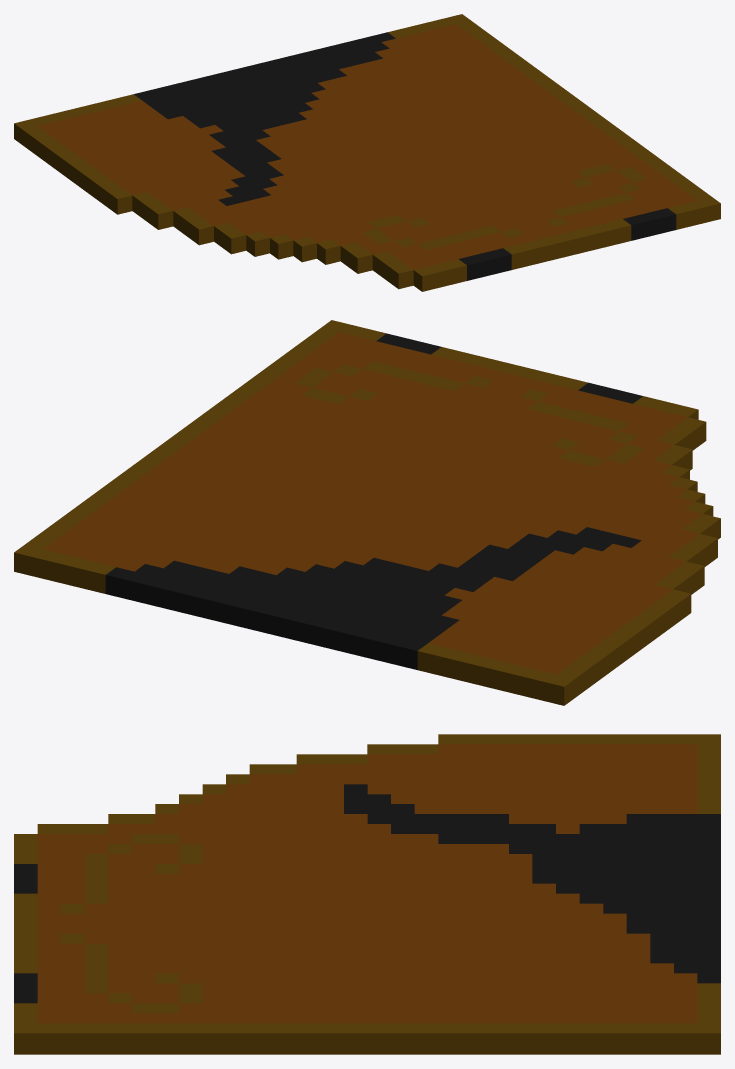
Rendered from saloon_door.obj.
3 views of the same model, one above another, from view 1: azimuth 30°, elevation 25°; view 2: azimuth 150°, elevation 25°; view 3: azimuth 270°, elevation 25° (orthographic). The views are drawn at different scales.
Size of the model in its own units: 30 by 1 by 30.
Materials: 1 (1 with a texture image).
